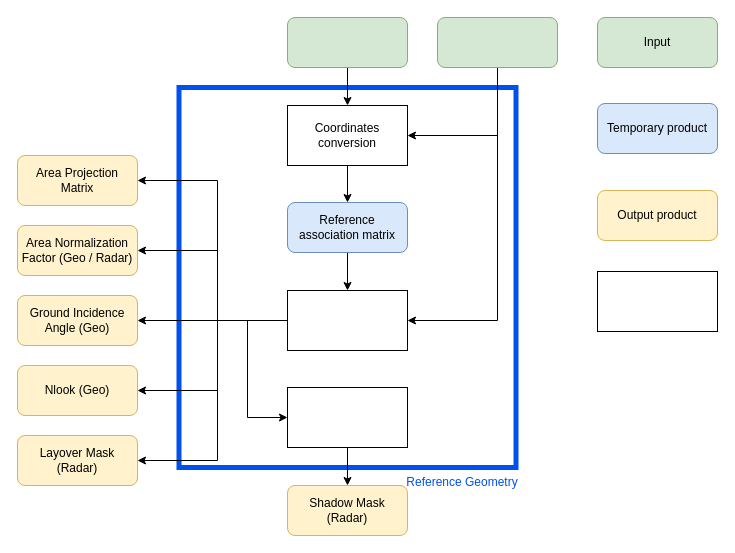
Some shapes in this 735 by 553 pixel diagram are drawn without their labels. The centre of each missing label's shape, as x and y in pixels:
Orbit: the point at 497,42
Processing block: the point at 657,301
Radar Mapping: the point at 347,417
Radar Rasterization: the point at 347,320
Resampled DEM: the point at 347,42
